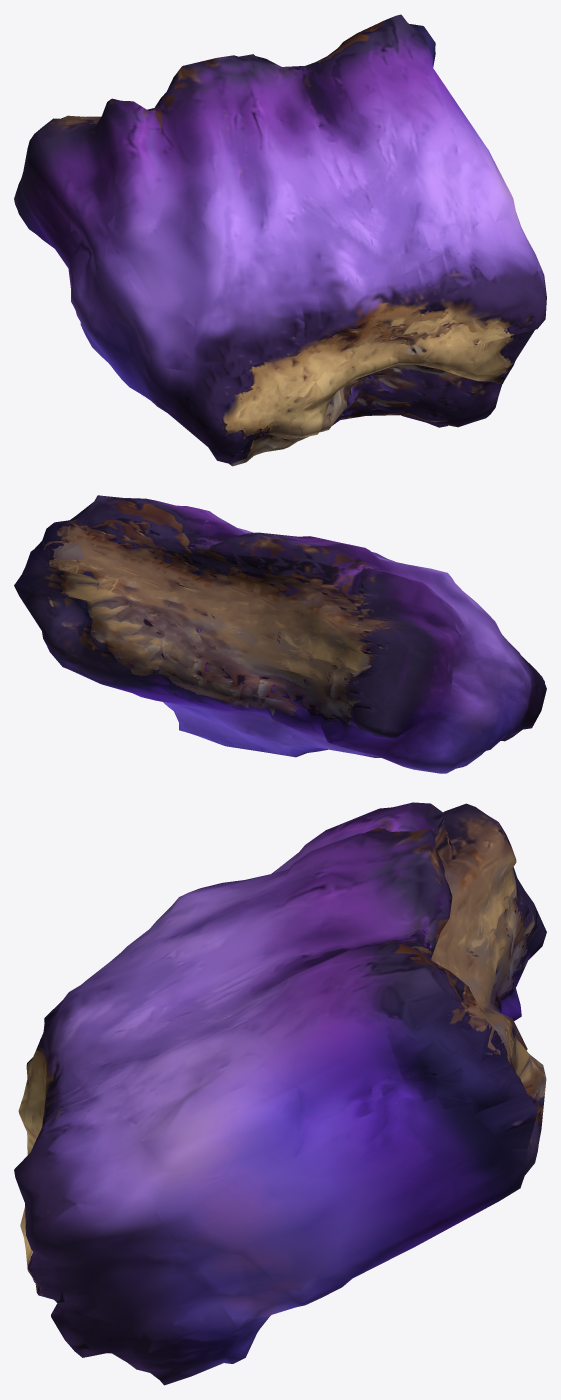
File: eggplant.glb
3 renders of one model, top to bottom at view 1: azimuth 30°, elevation 25°; view 2: azimuth 150°, elevation 25°; view 3: azimuth 270°, elevation 25°, orthographic. The views are drawn at different scales.
Parts seen in each view (by area): view 1: 茄子low; view 2: 茄子low; view 3: 茄子low.
Boxes of the visible parts, x1,y1,x2,y2 form: 茄子low: (14, 14, 546, 466); 茄子low: (14, 495, 546, 773); 茄子low: (14, 802, 546, 1385).
Size of the model in its own units: 0.9232 by 0.6825 by 0.7515.
1 material, 1 textured.
